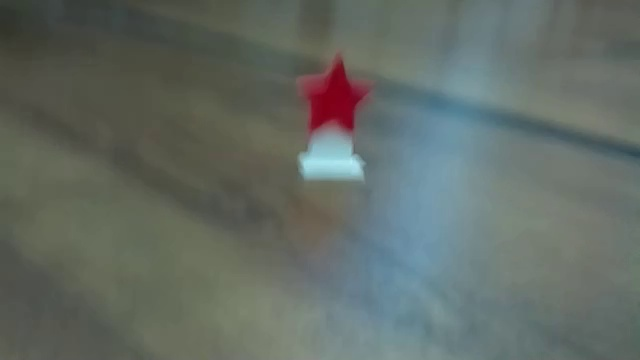star: (279, 52, 387, 192)
